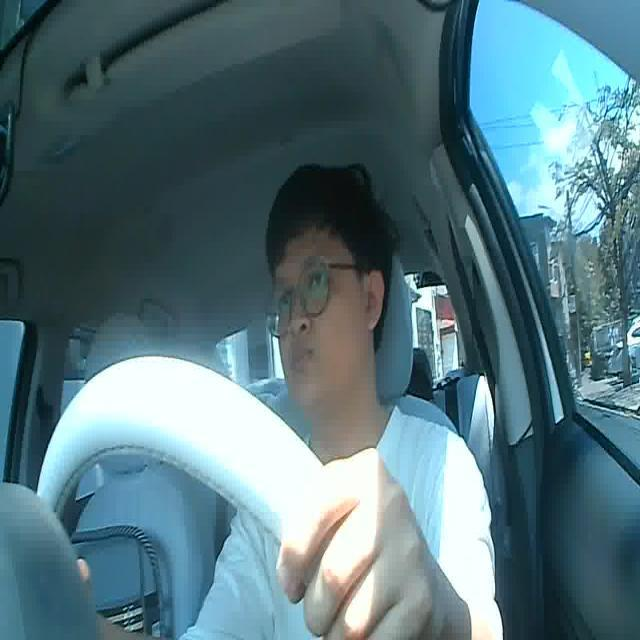Attentive: (262, 162, 397, 404)
Eye-Open: (275, 288, 298, 312), (307, 270, 330, 292)
Normal: (289, 345, 316, 374)
